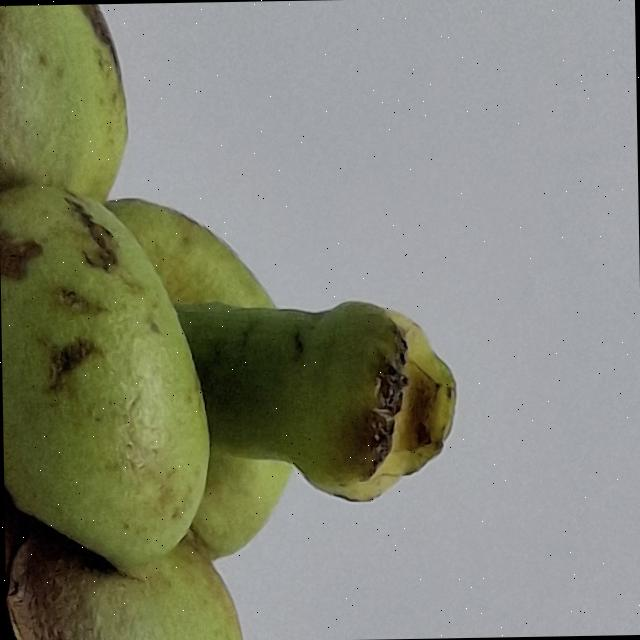mangosteen: (0, 0, 505, 640)
